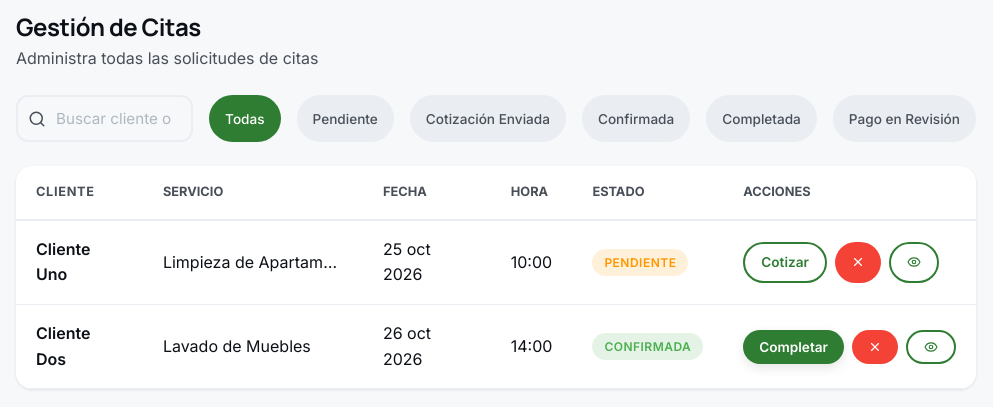
AdminAppointments Component › debe filtrar por estado usando los chips de filtro
Expected: the text "Cliente Uno" is shown, [16,220,143,305]
Click the button "Confirmada".
click(636, 119)  # box [582,95,690,142]
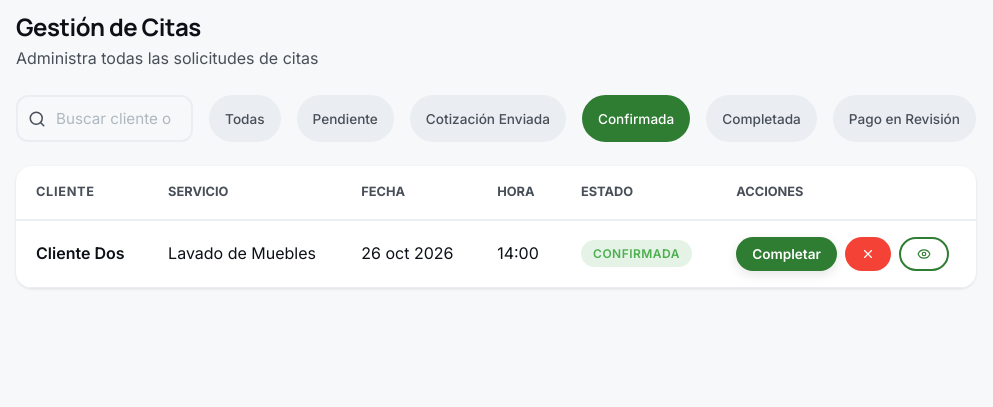
Expected: the text "Cliente Dos" is shown, [16,220,148,287]
Expected: the text "Cliente Uno" is gone
